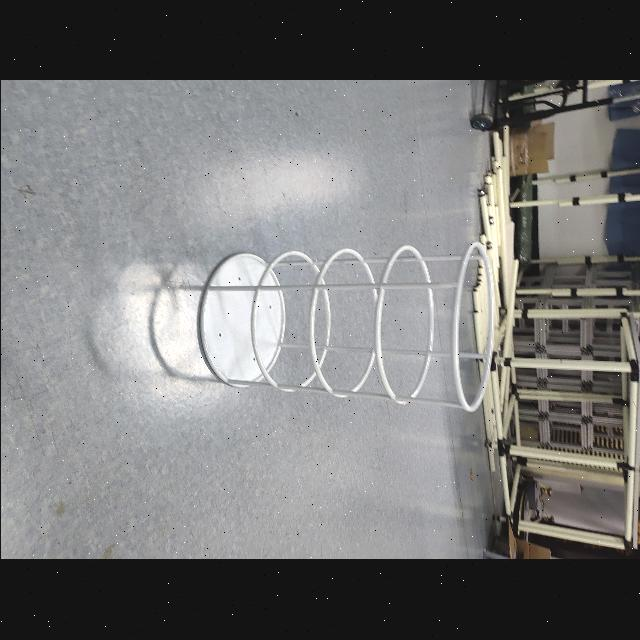S: (195, 240, 497, 418)
